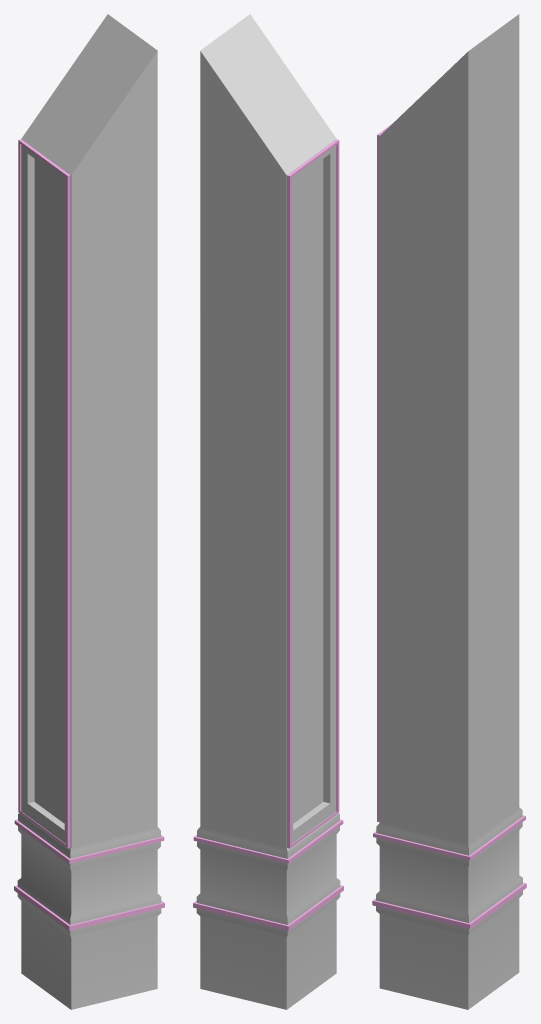
File: SM_Environment_Buildings_Tall_01.fbx
3 views of the same model, side by side, from view 1: azimuth 30°, elevation 25°; view 2: azimuth 150°, elevation 25°; view 3: azimuth 330°, elevation 25° (orthographic). The views are drawn at different scales.
Visible parts, largest first — view 1: SM_Environment_Buildings_Tall_01, Lights; view 2: SM_Environment_Buildings_Tall_01, Lights; view 3: SM_Environment_Buildings_Tall_01, Lights.
Part boxes in pixels (bbox=[...]): SM_Environment_Buildings_Tall_01: bbox=[17, 14, 161, 1009]; Lights: bbox=[14, 139, 164, 930]; SM_Environment_Buildings_Tall_01: bbox=[196, 14, 340, 1009]; Lights: bbox=[193, 139, 343, 930]; SM_Environment_Buildings_Tall_01: bbox=[376, 14, 522, 1009]; Lights: bbox=[372, 124, 526, 928].
Size of the model in its own units: 6.63 by 62.17 by 6.63.
